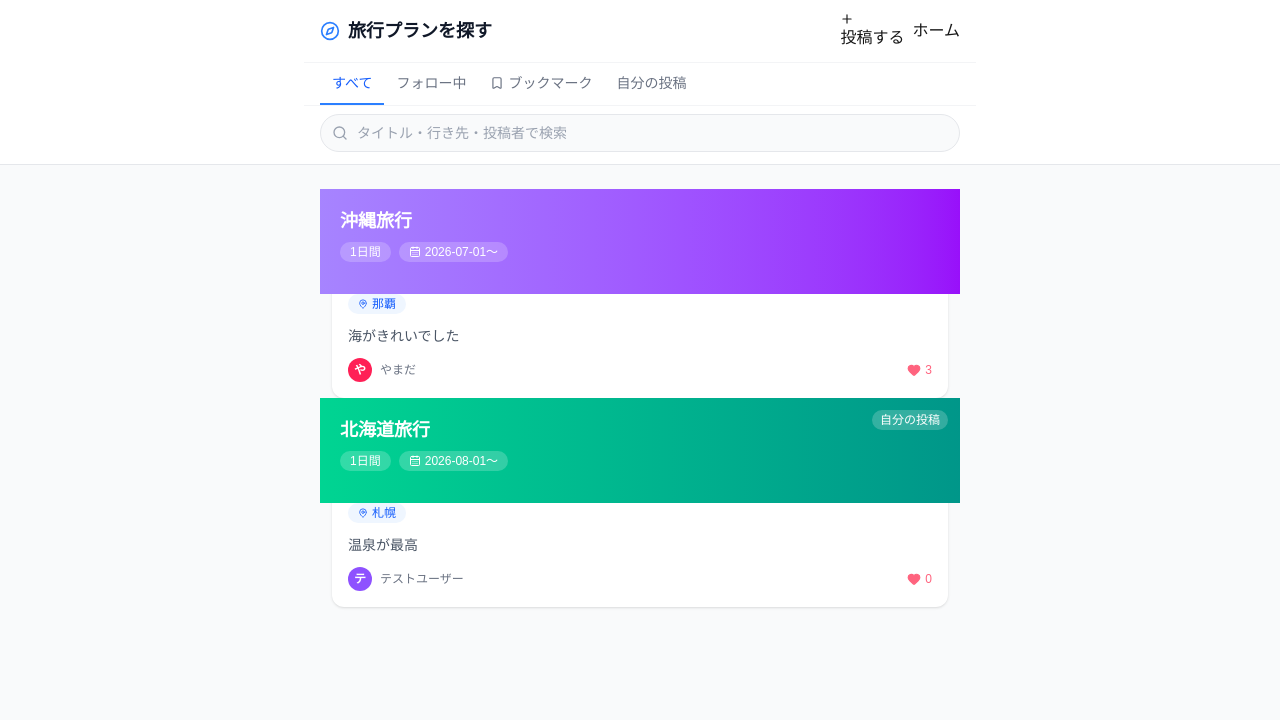
FeedPage › 「ブックマーク」タブでブックマーク済み投稿のみ表示する
Expected: the heading "沖縄旅行" is shown, [340,211,412,231]
What coordinates should you click on to do the following:
click the button with test id "tab-bookmarks"
I would click on:
 (542, 84)
Its box is [478,63,604,105].
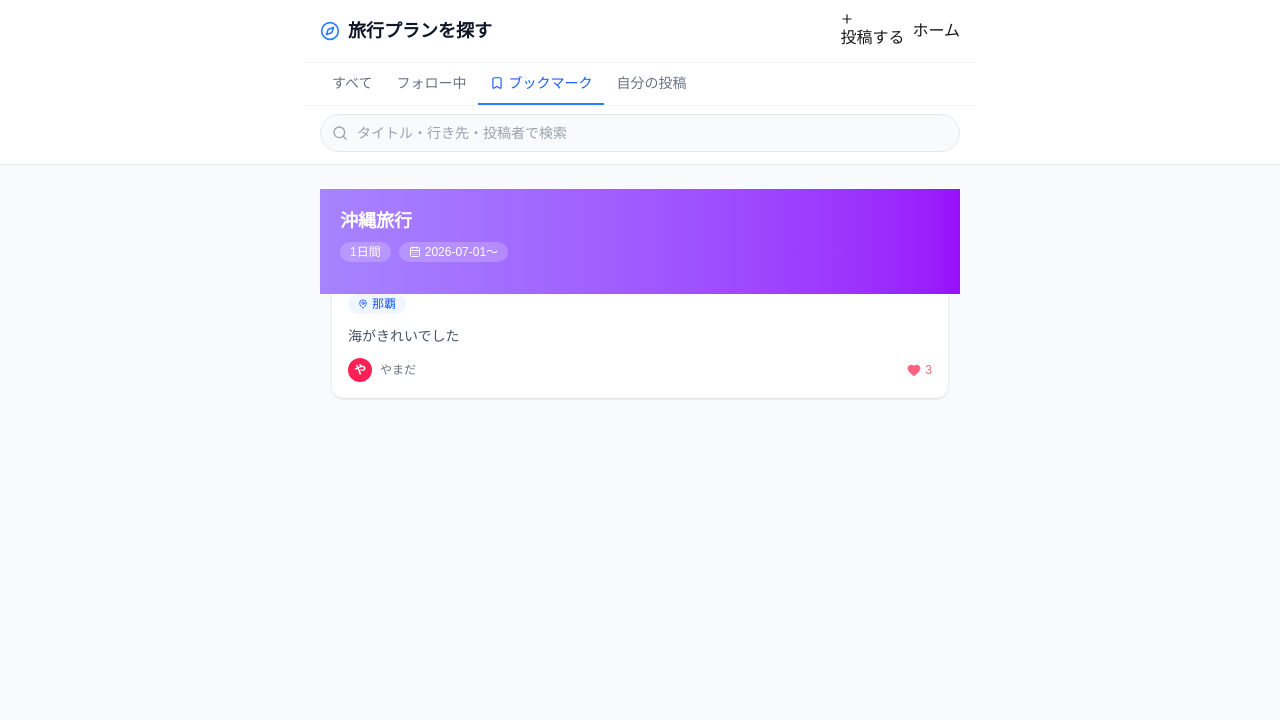
Expected: the heading "沖縄旅行" is shown, [340,211,412,231]
Expected: the link "北海道旅行" is gone
